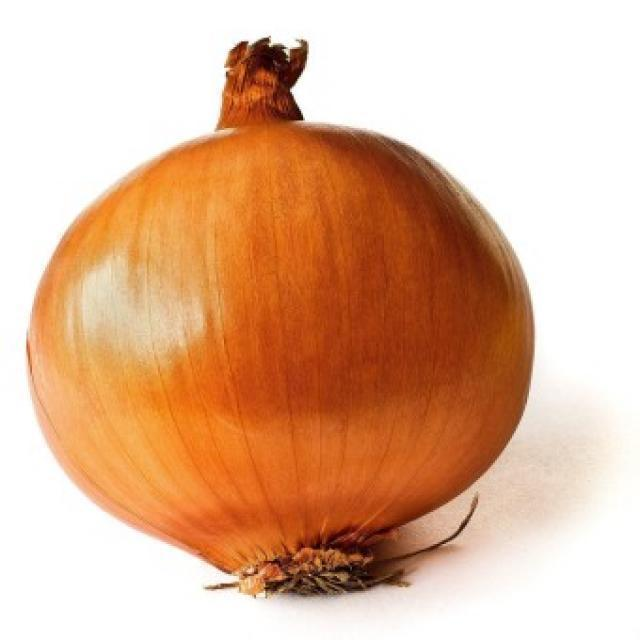Onion: (24, 38, 537, 601)
